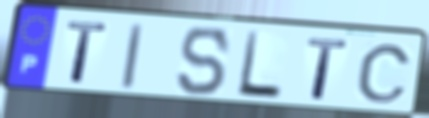C: (354, 42, 414, 105)
I: (119, 21, 146, 93)
L: (234, 29, 284, 102)
S: (175, 25, 233, 98)
T: (304, 36, 352, 102), (66, 19, 111, 87)
